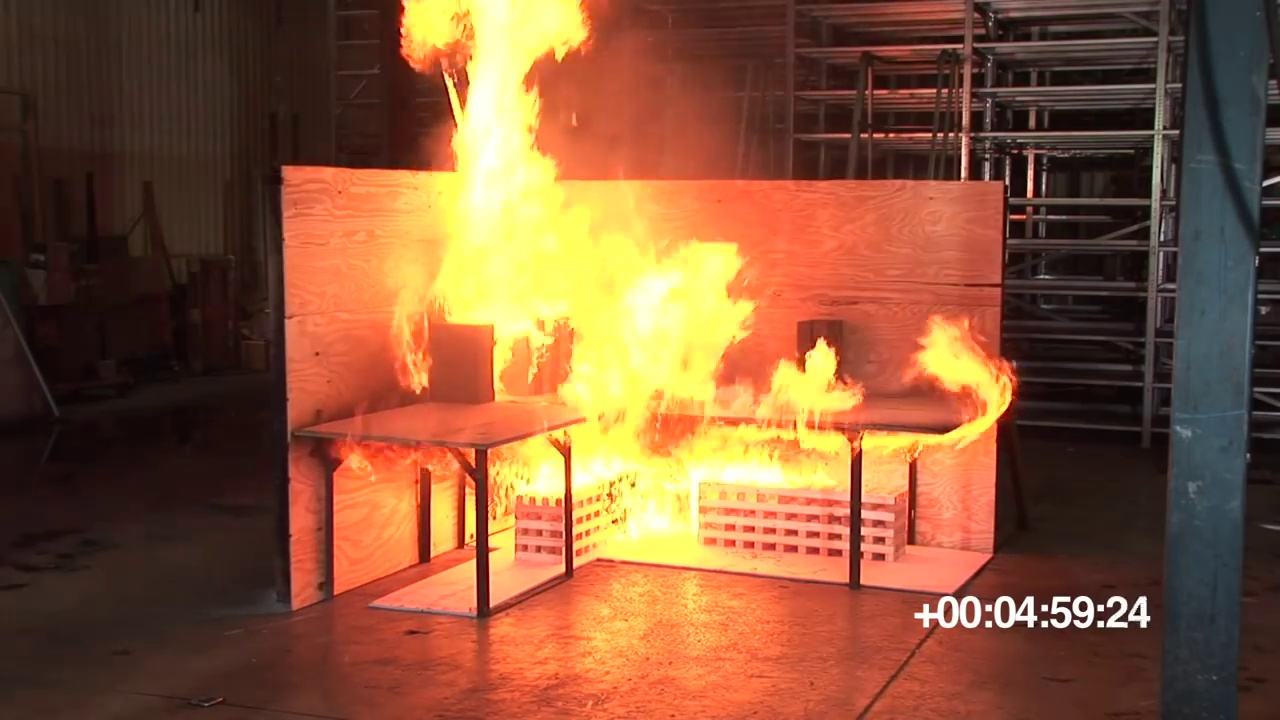fire: (437, 60, 749, 420), (498, 422, 848, 543), (913, 316, 1012, 445), (396, 6, 585, 60), (753, 337, 863, 418), (379, 259, 429, 389)
